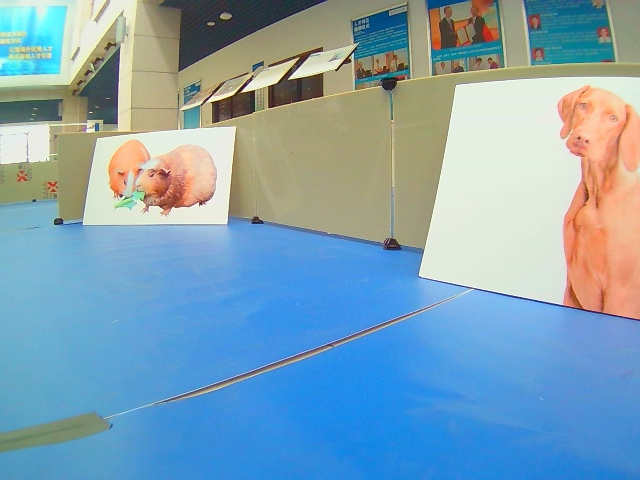pet: (85, 127, 238, 226)
